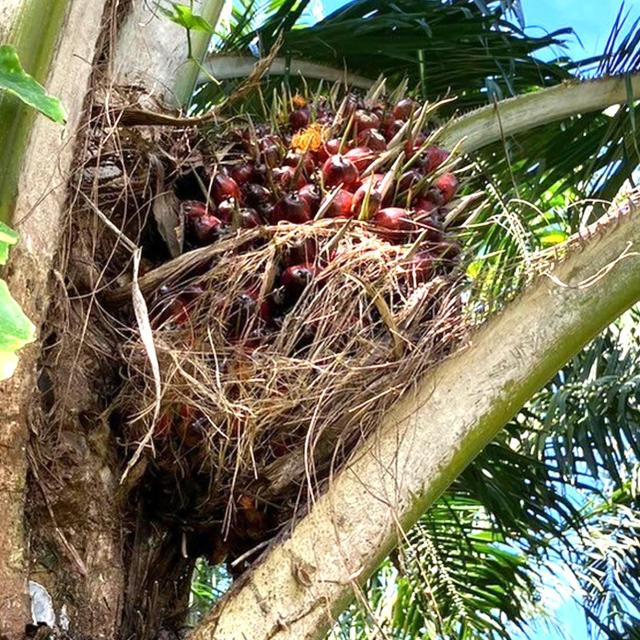ripe: (110, 66, 481, 550)
